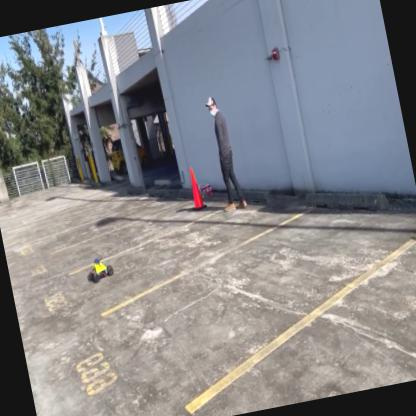cone: (185, 164, 206, 212)
mushr_car: (82, 252, 118, 288)
